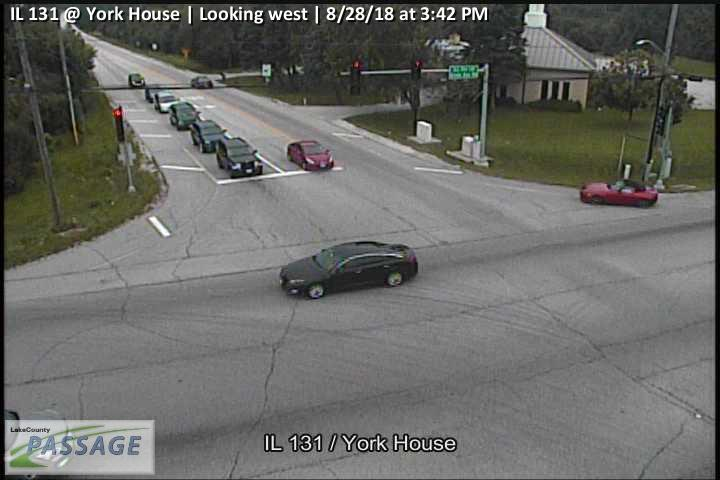Sedan: (278, 239, 418, 299), (581, 178, 658, 208), (214, 135, 263, 176), (286, 138, 334, 171), (188, 118, 230, 153), (166, 100, 202, 129), (152, 90, 180, 112)
